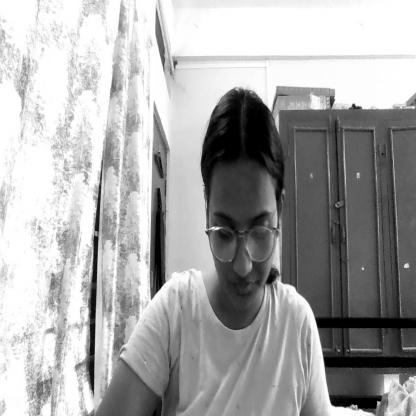Distracted: (209, 103, 282, 308)
